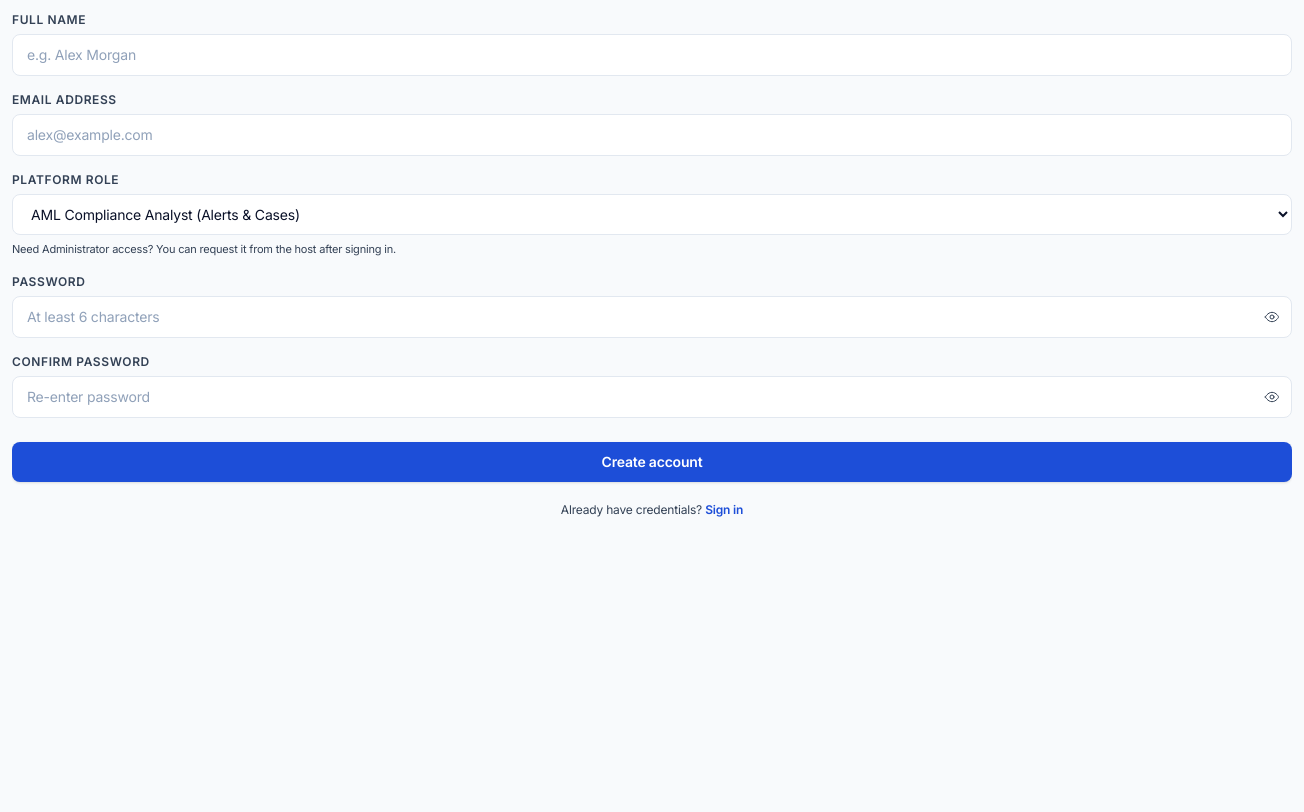
Test: SignUpForm › displays error message from Supabase auth rejection
Type "Jane Doe" into the field labelled "Full name".
click(652, 55); type("Jane Doe")  # box [12, 34, 1292, 76]
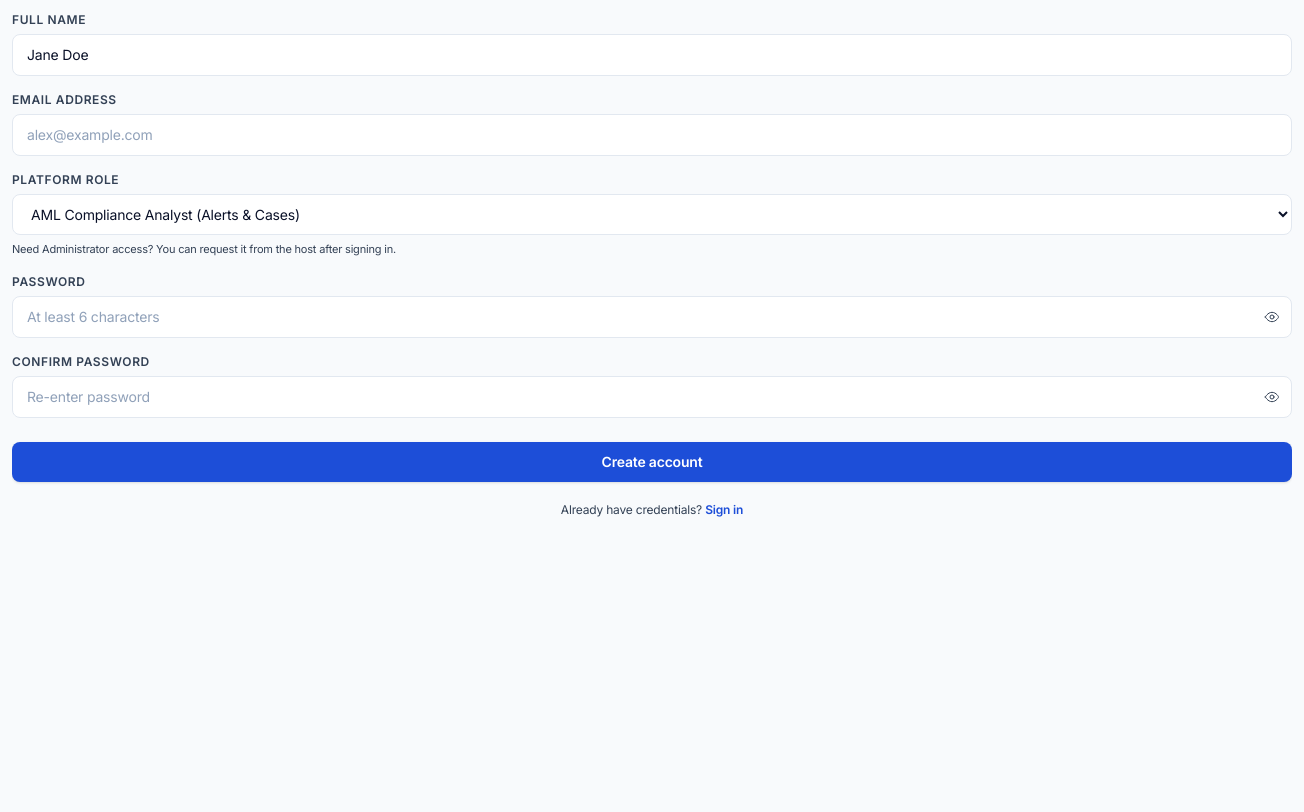
Type "existing@example.com" into the field labelled "Email address".
click(652, 135); type("existing@example.com")  # box [12, 114, 1292, 156]
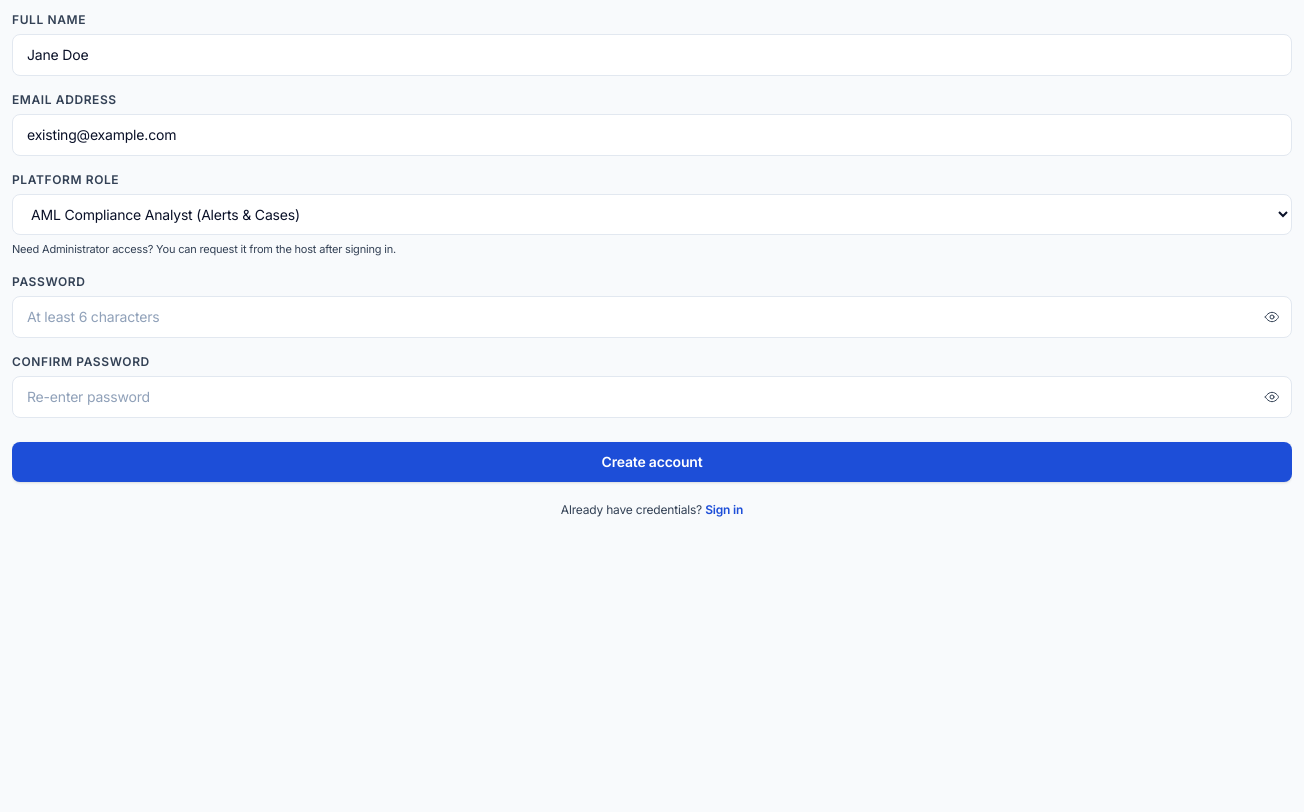
Type "securepassword123" into the password field labelled "Password".
click(652, 316); type("securepassword123")  # box [12, 296, 1292, 338]
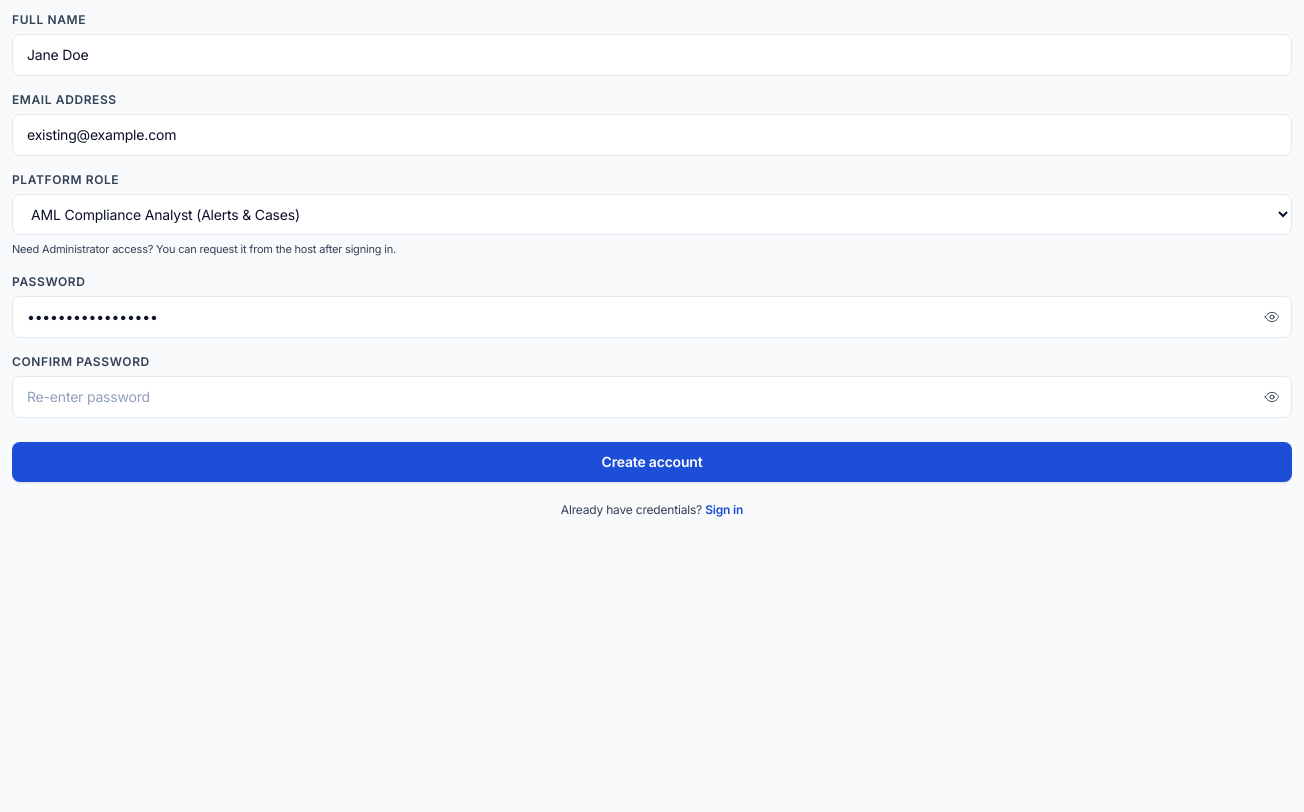
Type "securepassword123" into the password field labelled "Confirm password".
click(652, 396); type("securepassword123")  # box [12, 376, 1292, 418]
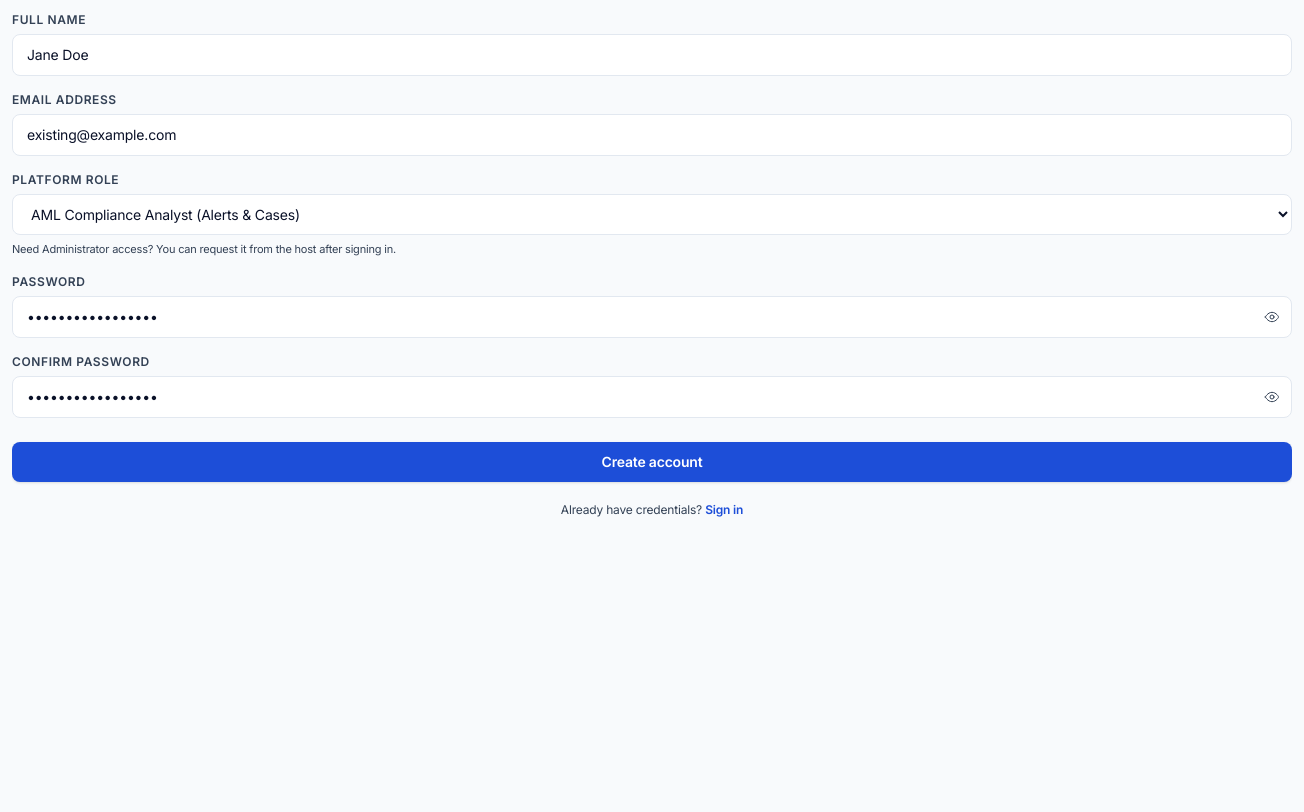
Click the button "Create account".
click(652, 462)  # box [12, 442, 1292, 482]
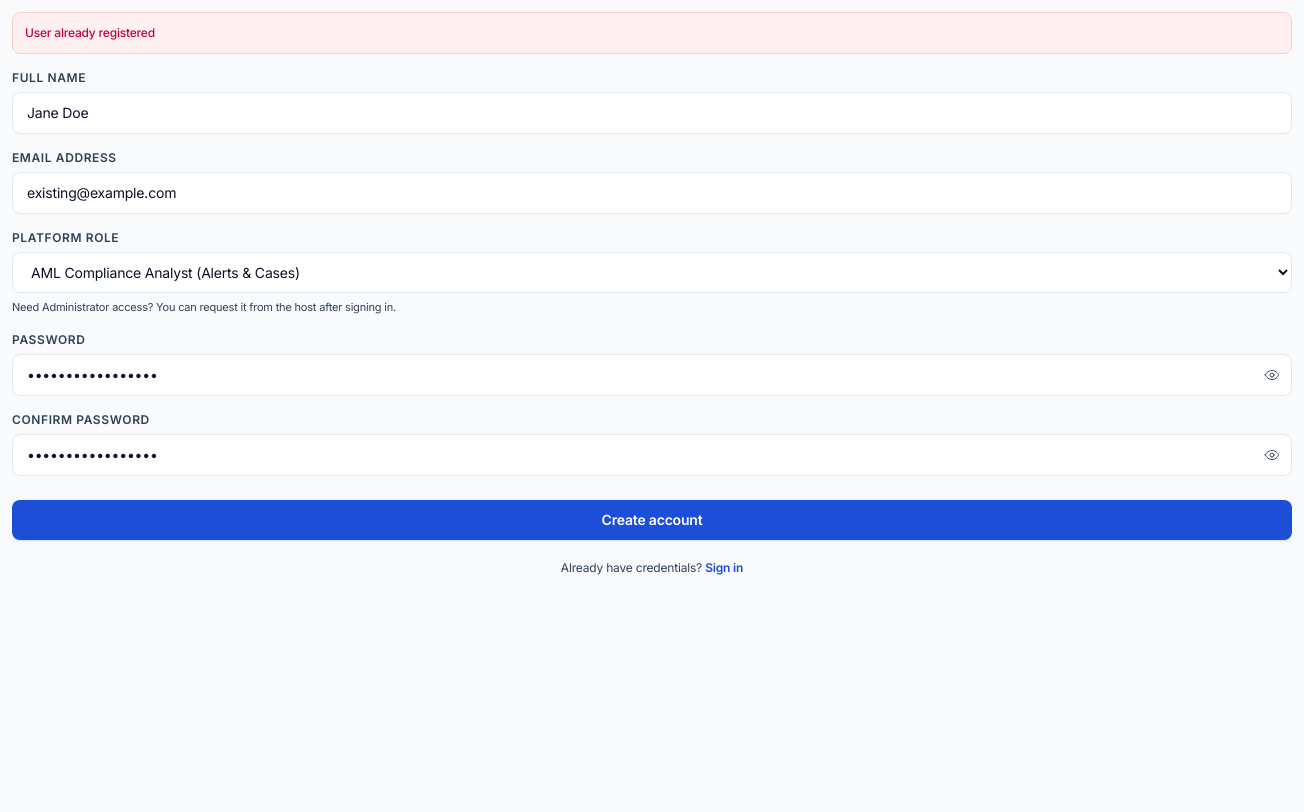
Result: the message reads "User already registered" at [25, 25, 155, 40]
